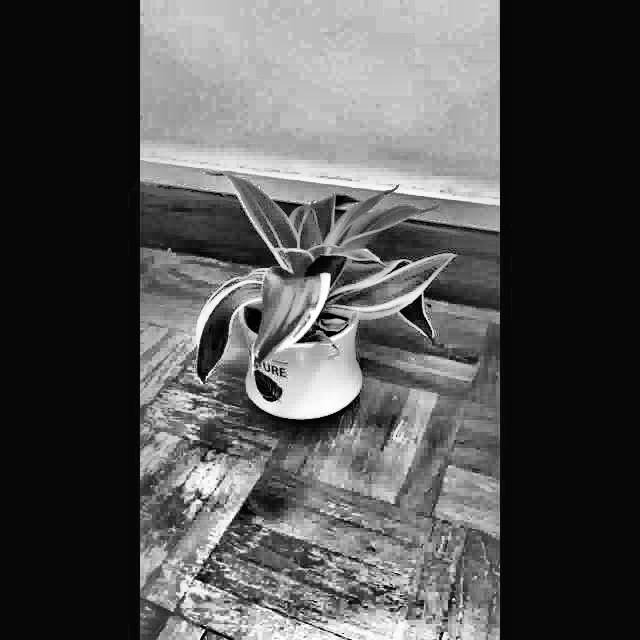plants: (191, 156, 461, 424)
